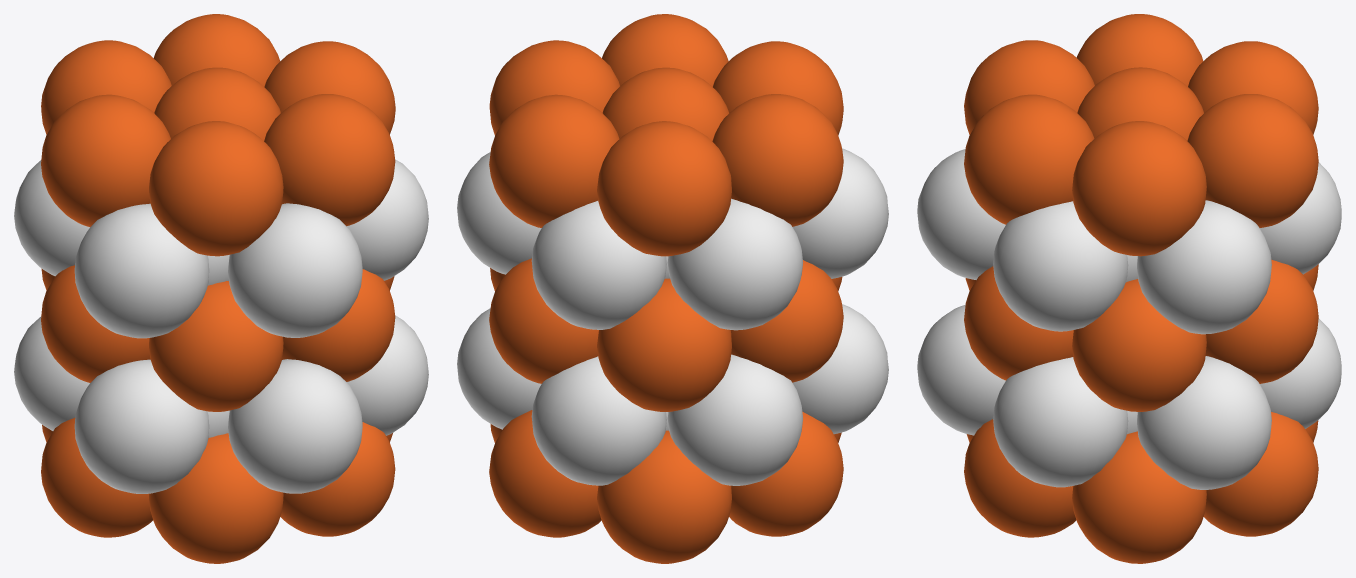
File: estructura hexagonal compacta ABA 2.obj.glb
The picture shows the model from 3 angles, left to right: view 1: azimuth 30°, elevation 25°; view 2: azimuth 150°, elevation 25°; view 3: azimuth 270°, elevation 25°; orthographic projection.
Visible parts, largest first — view 1: Sphere.506_Sphere.001, Sphere.497_Sphere.001, Sphere.481_Sphere.001, Sphere.502_Sphere.001, Sphere.486_Sphere.001, Sphere.504_Sphere.001, Sphere.507_Sphere.001, Sphere.490_Sphere.001, Sphere.473_Sphere.001, Sphere.474_Sphere.001, Sphere.471_Sphere.001, Sphere.509_Sphere.001 (+10 smaller); view 2: Sphere.509_Sphere.001, Sphere.507_Sphere.001, Sphere.508_Sphere.001, Sphere.499_Sphere.001, Sphere.483_Sphere.001, Sphere.493_Sphere.001, Sphere.503_Sphere.001, Sphere.487_Sphere.001, Sphere.476_Sphere.001, Sphere.475_Sphere.001, Sphere.474_Sphere.001, Sphere.492_Sphere.001 (+9 smaller); view 3: Sphere.505_Sphere.001, Sphere.508_Sphere.001, Sphere.501_Sphere.001, Sphere.485_Sphere.001, Sphere.496_Sphere.001, Sphere.479_Sphere.001, Sphere.504_Sphere.001, Sphere.489_Sphere.001, Sphere.472_Sphere.001, Sphere.475_Sphere.001, Sphere.492_Sphere.001, Sphere.471_Sphere.001 (+9 smaller).
Part boxes in pixels (x1,y1,x2,y2): Sphere.506_Sphere.001: (149, 121, 283, 256); Sphere.497_Sphere.001: (228, 203, 362, 337); Sphere.481_Sphere.001: (228, 359, 362, 493); Sphere.502_Sphere.001: (74, 203, 209, 338); Sphere.486_Sphere.001: (74, 359, 209, 493); Sphere.504_Sphere.001: (264, 94, 395, 226); Sphere.507_Sphere.001: (41, 94, 170, 226); Sphere.490_Sphere.001: (149, 281, 283, 411); Sphere.473_Sphere.001: (149, 433, 283, 563); Sphere.474_Sphere.001: (41, 418, 152, 537); Sphere.471_Sphere.001: (280, 422, 395, 536); Sphere.509_Sphere.001: (41, 40, 171, 134); Sphere.509_Sphere.001: (597, 121, 731, 256); Sphere.507_Sphere.001: (712, 94, 843, 226); Sphere.508_Sphere.001: (489, 94, 619, 227); Sphere.499_Sphere.001: (667, 198, 803, 330); Sphere.483_Sphere.001: (667, 354, 803, 485); Sphere.493_Sphere.001: (597, 278, 731, 411); Sphere.503_Sphere.001: (531, 201, 666, 329); Sphere.487_Sphere.001: (531, 356, 666, 485); Sphere.476_Sphere.001: (597, 430, 731, 563); Sphere.475_Sphere.001: (489, 410, 601, 537); Sphere.474_Sphere.001: (729, 411, 843, 536); Sphere.492_Sphere.001: (489, 258, 598, 383); Sphere.505_Sphere.001: (1072, 121, 1206, 256); Sphere.508_Sphere.001: (1187, 94, 1318, 227); Sphere.501_Sphere.001: (993, 201, 1128, 331); Sphere.485_Sphere.001: (993, 357, 1128, 487); Sphere.496_Sphere.001: (1137, 200, 1271, 334); Sphere.479_Sphere.001: (1137, 356, 1271, 489); Sphere.504_Sphere.001: (964, 94, 1094, 224); Sphere.489_Sphere.001: (1072, 279, 1206, 411); Sphere.472_Sphere.001: (1072, 431, 1206, 563); Sphere.475_Sphere.001: (1203, 412, 1318, 536); Sphere.492_Sphere.001: (1205, 259, 1318, 383); Sphere.471_Sphere.001: (964, 419, 1076, 537).
Bounding box in the file's own units: 1.3 × 1.56 × 1.4.
